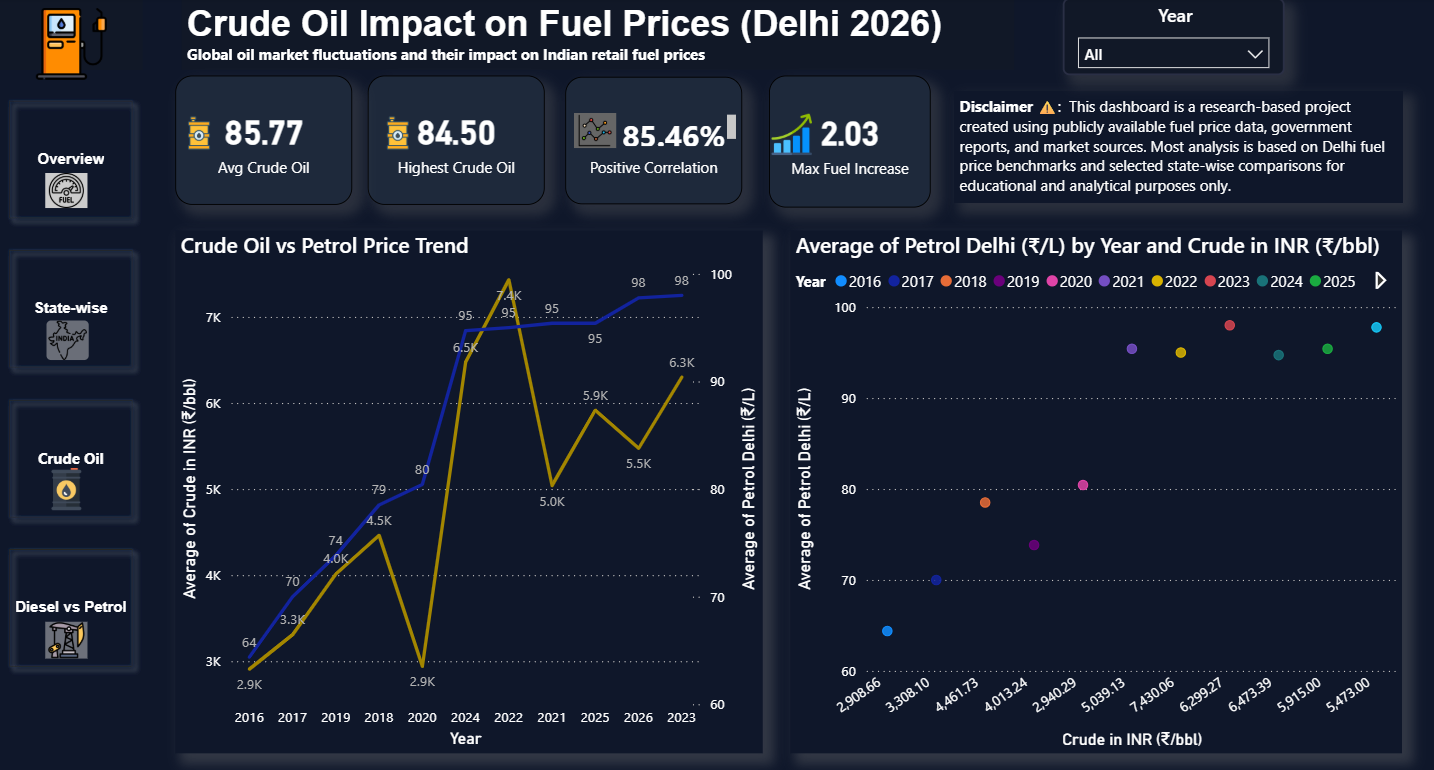

This screenshot's page, from the dashboard's own definition file:
{"tool":"powerbi","page":{"name":"Crude Oil","canvas":[1280,720],"ordinal":2},"visuals":[{"type":"shape","box":[0,0,127.9,64],"z":0},{"type":"textbox","box":[162.8,0,741.9,64],"z":1000},{"type":"pageNavigator","box":[0,82.5,128.8,523.8],"z":2000},{"type":"image","box":[0,8.8,128.8,63.8],"z":3000},{"type":"card","fields":{"Values":["4  Crude Oil Impact.Avg Crude Oil"]},"box":[503.8,70,157.5,113.8],"z":4000},{"type":"card","fields":{"Values":["4  Crude Oil Impact.Highest Crude Oil"]},"box":[328.8,68.5,157.5,115],"z":5000},{"type":"card","fields":{"Values":["4  Crude Oil Impact.Avg Crude Oil"]},"box":[157.5,68.5,157.5,115],"z":6000},{"type":"card","fields":{"Values":["1  Yearly Trends.Max Fuel Increase"]},"box":[686.2,68.8,143.8,117.5],"z":7000},{"type":"image","box":[340,104.8,31.2,31.2],"z":8000},{"type":"image","box":[41.2,418.8,37.5,37.5],"z":9000},{"type":"image","box":[42.5,287.5,37.5,35],"z":10000},{"type":"image","box":[41.2,555,37.5,32.5],"z":11000},{"type":"image","box":[162.5,104.8,31.2,31.2],"z":12000},{"type":"image","box":[41.2,156.2,37.5,31.2],"z":13000},{"type":"image","box":[687.5,98.8,36.2,45],"z":14000},{"type":"image","box":[512.5,102.5,37.5,31.2],"z":15000},{"type":"slicer","title":"Year","fields":{"Values":["4  Crude Oil Impact.Year"]},"box":[947.5,0,197.5,68.8],"z":16000},{"type":"textbox","box":[0,688,1280,32.4],"z":17000},{"type":"lineChart","title":"Crude Oil vs Petrol Price Trend","fields":{"Category":["4  Crude Oil Impact.Year"],"Y2":["Avg(4  Crude Oil Impact.Petrol Delhi (₹/L))"],"Y":["Avg(4  Crude Oil Impact.Crude in INR (₹/bbl))"]},"box":[157.3,206.5,523.5,465.9],"z":18000},{"type":"scatterChart","fields":{"Y":["Avg(4  Crude Oil Impact.Petrol Delhi (₹/L))"],"X":["4  Crude Oil Impact.Crude in INR (₹/bbl)"],"Series":["4  Crude Oil Impact.Year"]},"box":[704.8,206.5,545.1,465.9],"z":19000},{"type":"textbox","box":[550,98.8,111.2,37.5],"z":20000},{"type":"shape","box":[850,72.5,400,115],"z":21000},{"type":"textbox","box":[850,82.5,400,100],"z":22000}]}

Visuals, with their boxes on the page's 1280x720 design canvas (x1, y1, x2, y2). These are canvas units, not pixel positions in the 1434x770 screenshot, which may show the page scaled, cropped or inside an application window:
shape: rect(0, 0, 128, 64)
textbox: rect(163, 0, 905, 64)
pageNavigator: rect(0, 82, 129, 606)
image: rect(0, 9, 129, 73)
card - 4  Crude Oil Impact.Avg Crude Oil: rect(504, 70, 661, 184)
card - 4  Crude Oil Impact.Highest Crude Oil: rect(329, 68, 486, 184)
card - 4  Crude Oil Impact.Avg Crude Oil: rect(158, 68, 315, 184)
card - 1  Yearly Trends.Max Fuel Increase: rect(686, 69, 830, 186)
image: rect(340, 105, 371, 136)
image: rect(41, 419, 79, 456)
image: rect(42, 288, 80, 322)
image: rect(41, 555, 79, 588)
image: rect(162, 105, 194, 136)
image: rect(41, 156, 79, 187)
image: rect(688, 99, 724, 144)
image: rect(512, 102, 550, 134)
"Year" slicer: rect(948, 0, 1145, 69)
textbox: rect(0, 688, 1280, 720)
"Crude Oil vs Petrol Price Trend" lineChart: rect(157, 206, 681, 672)
scatterChart - Avg(4  Crude Oil Impact.Petrol Delhi (₹/L)) x 4  Crude Oil Impact.Crude in INR (₹/bbl): rect(705, 206, 1250, 672)
textbox: rect(550, 99, 661, 136)
shape: rect(850, 72, 1250, 188)
textbox: rect(850, 82, 1250, 182)
